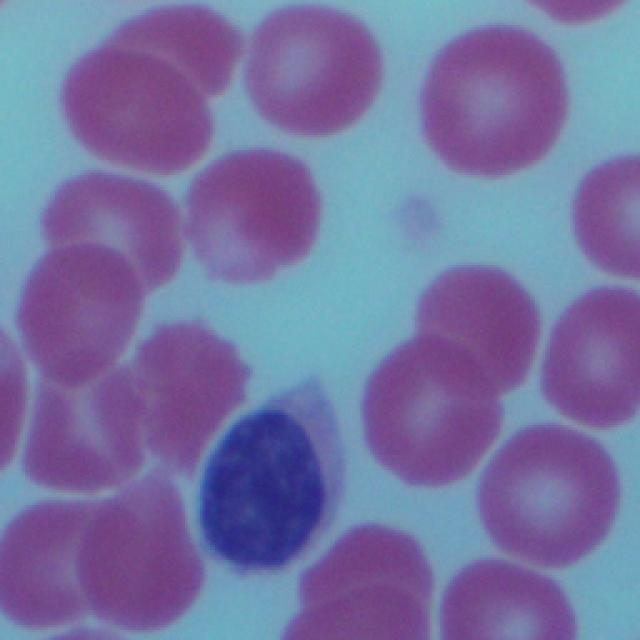RBC: (422, 25, 562, 176), (368, 336, 502, 484), (59, 45, 212, 164), (416, 252, 540, 398), (487, 426, 614, 564), (252, 0, 382, 134), (188, 153, 326, 279), (24, 380, 153, 512), (87, 488, 209, 626), (41, 175, 184, 292), (126, 322, 241, 461), (107, 0, 246, 109), (31, 244, 132, 386), (1, 496, 108, 628), (552, 282, 640, 438), (296, 527, 431, 612), (451, 559, 586, 640), (280, 585, 428, 640), (577, 154, 640, 278)
WBC: (204, 382, 349, 579)
